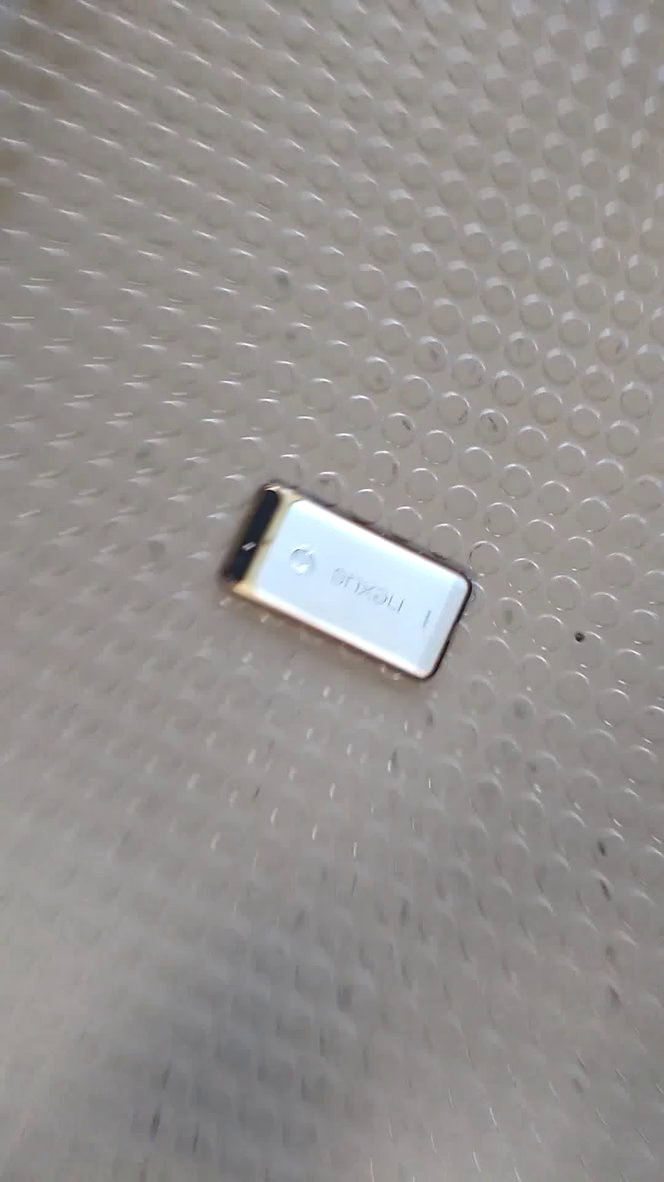phone: (210, 472, 488, 695)
